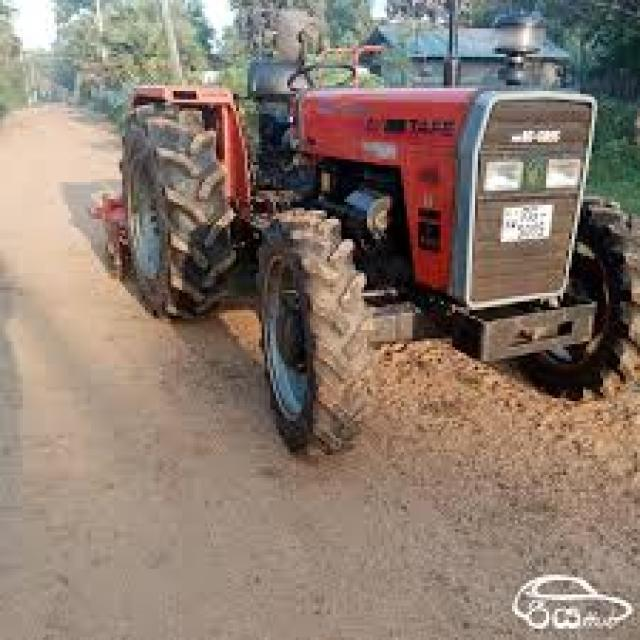tractor: (119, 60, 637, 449)
